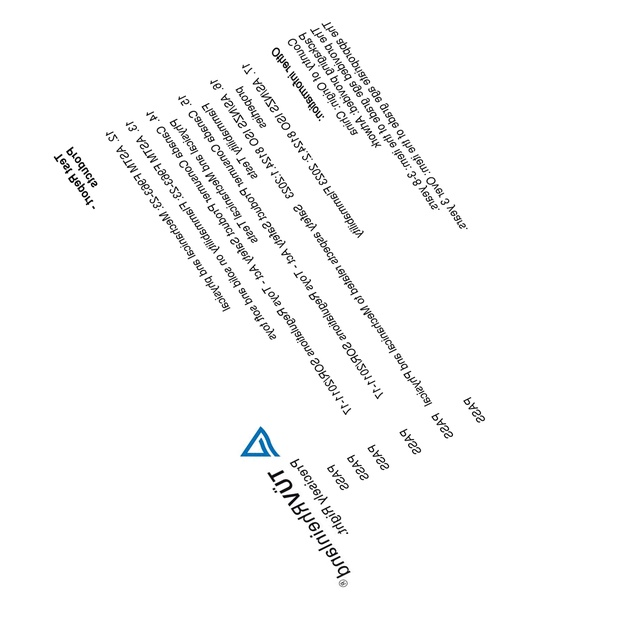tuv_rheinland: (237, 423, 352, 589)
